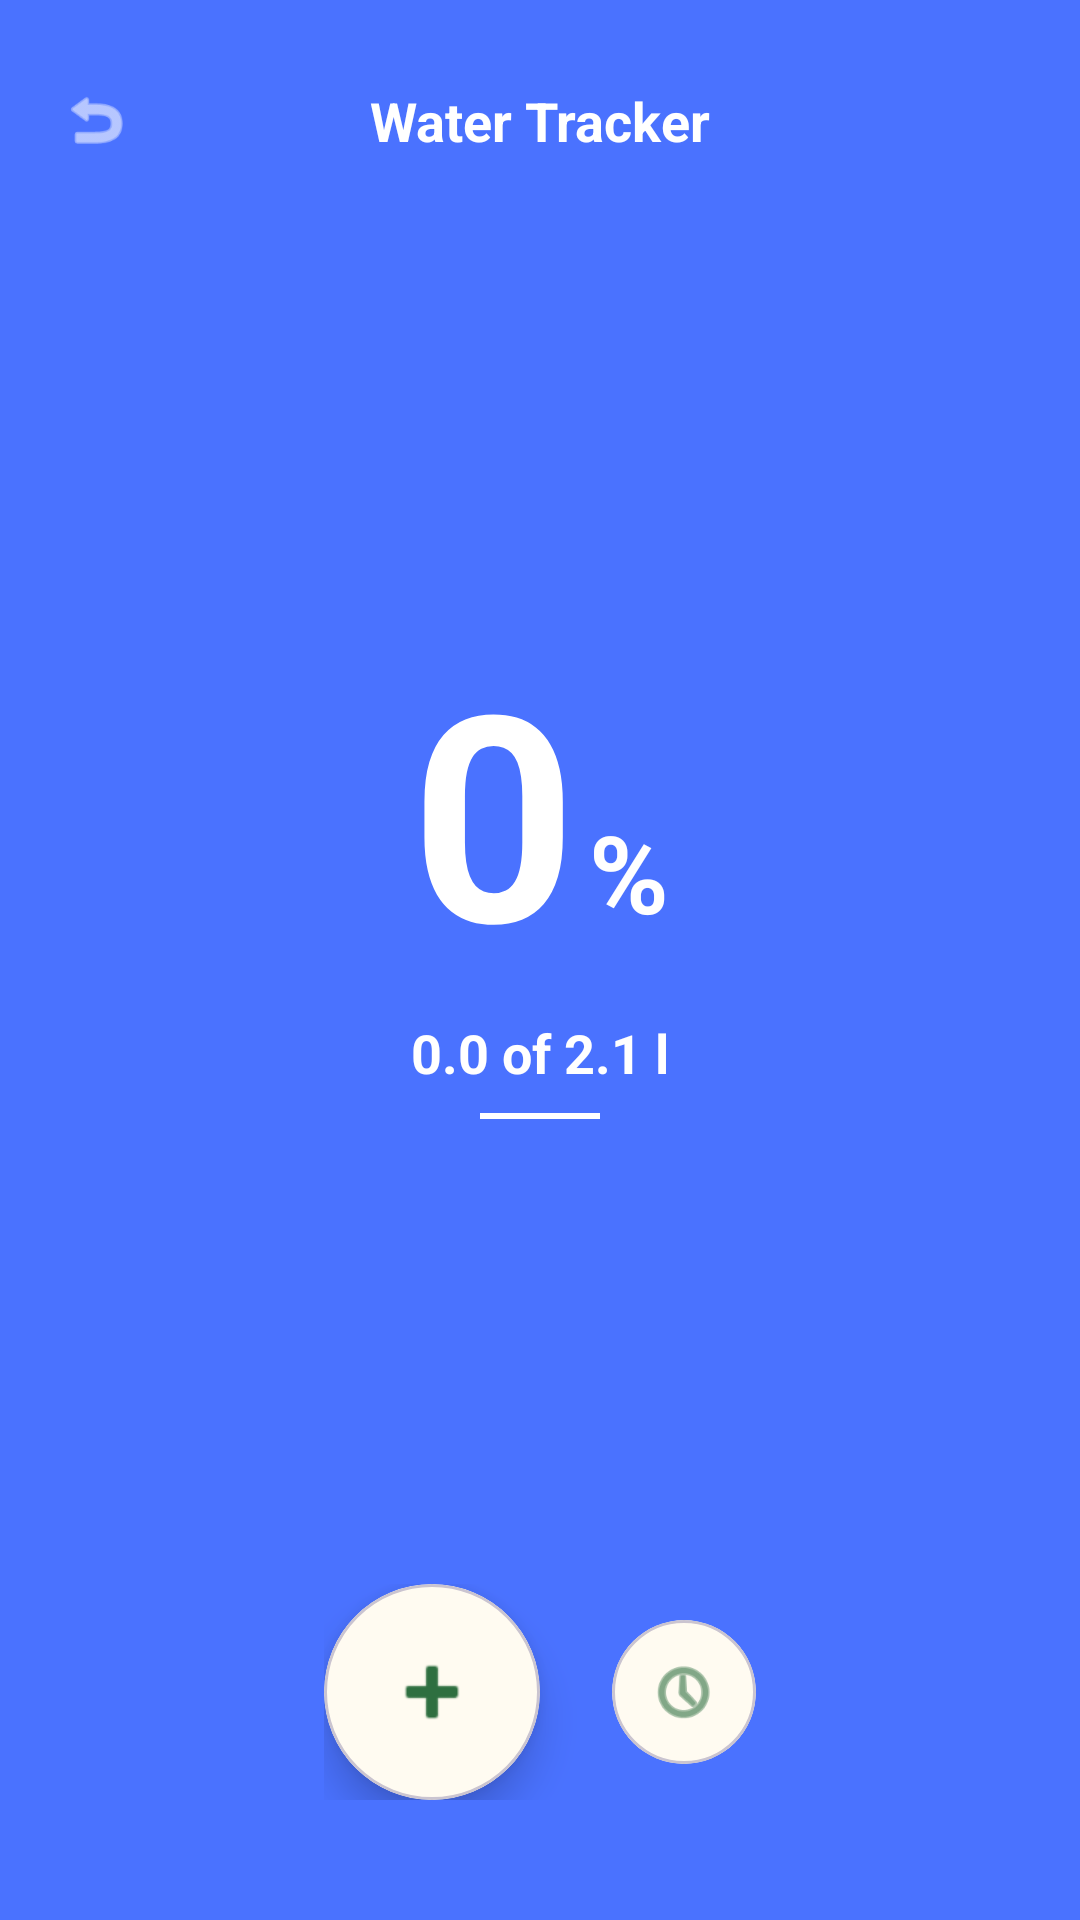

Named icons in this screenshot (1080 × 1920) and their centers, (x=x, y=y):
add: (x=432, y=1692)
recent history: (x=684, y=1692)
revert: (x=97, y=120)
